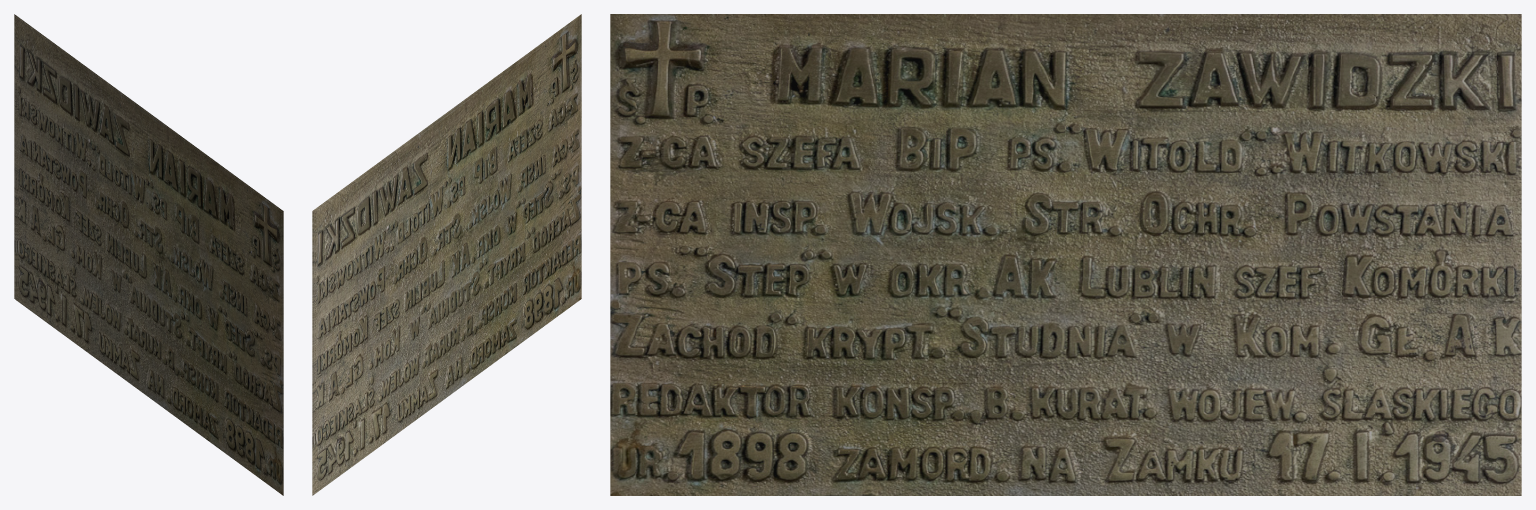
The model's file is 28. Ś.P. MARIAN ZAWIDZKI.glb.
3 renders of one model, left to right at view 1: azimuth 30°, elevation 25°; view 2: azimuth 150°, elevation 25°; view 3: azimuth 270°, elevation 25°, orthographic. The views are drawn at different scales.
Visible parts, largest first — view 1: Plane; view 2: Plane; view 3: Plane.
Boxes of the visible parts, x1,y1,x2,y2 form: Plane: [14, 14, 283, 495]; Plane: [312, 14, 581, 495]; Plane: [610, 14, 1521, 495].
Size of the model in its own units: 0.0102 by 12.66 by 21.69.
1 material, 1 textured.
